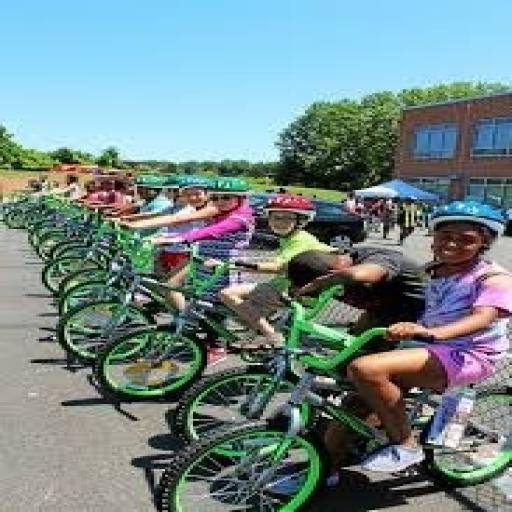cycling: (336, 197, 509, 477), (207, 192, 353, 352)
